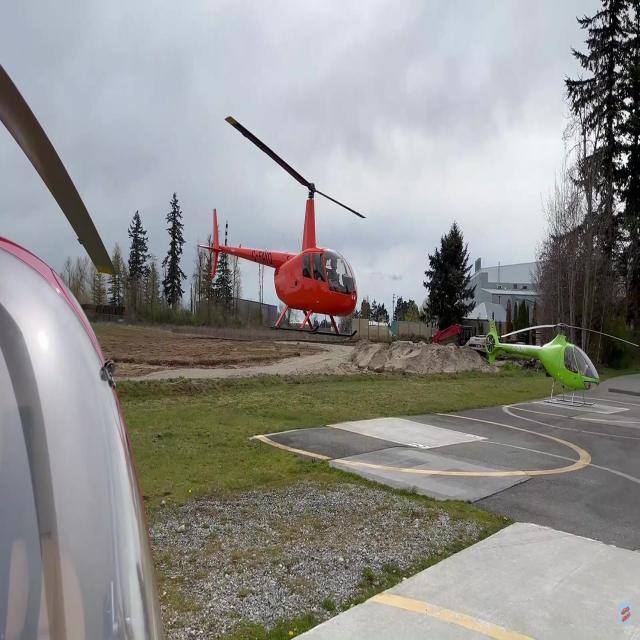CIV_HELO: (196, 179, 358, 338)
